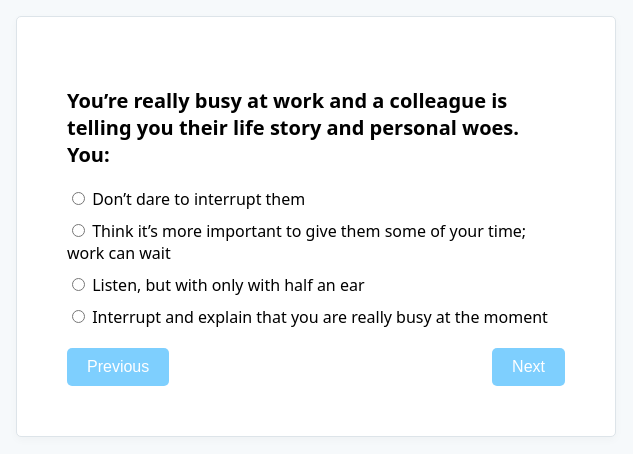
Scenario: can return to a previous question
Click the text "Don’t dare to interrupt them" at (199, 199), box [92, 188, 305, 210]
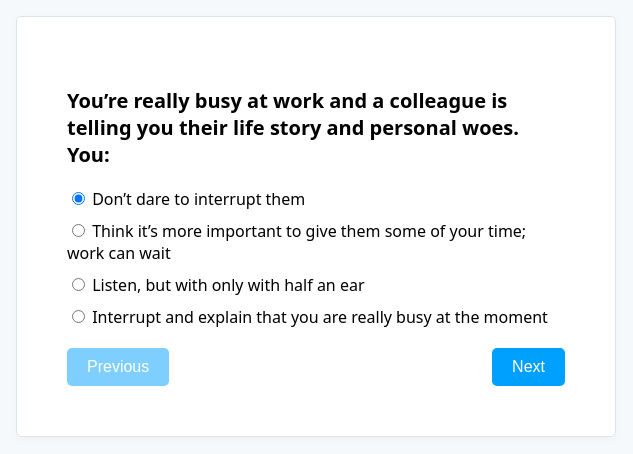
Click the button "Next" at (529, 367), box [492, 348, 565, 386]
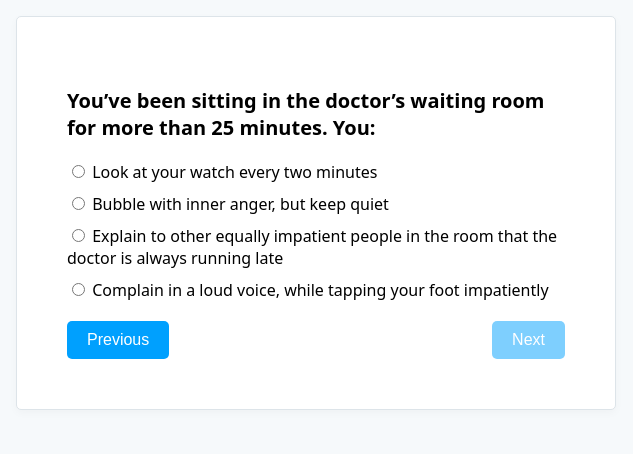
Expected: the button "Previous" is enabled, [67, 321, 169, 359]
